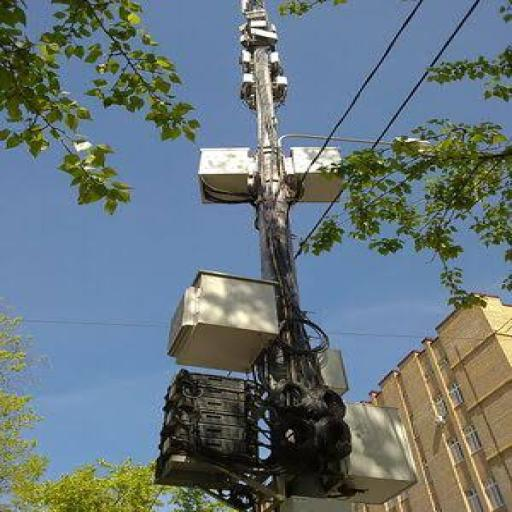odn_pole: (152, 0, 418, 511)
